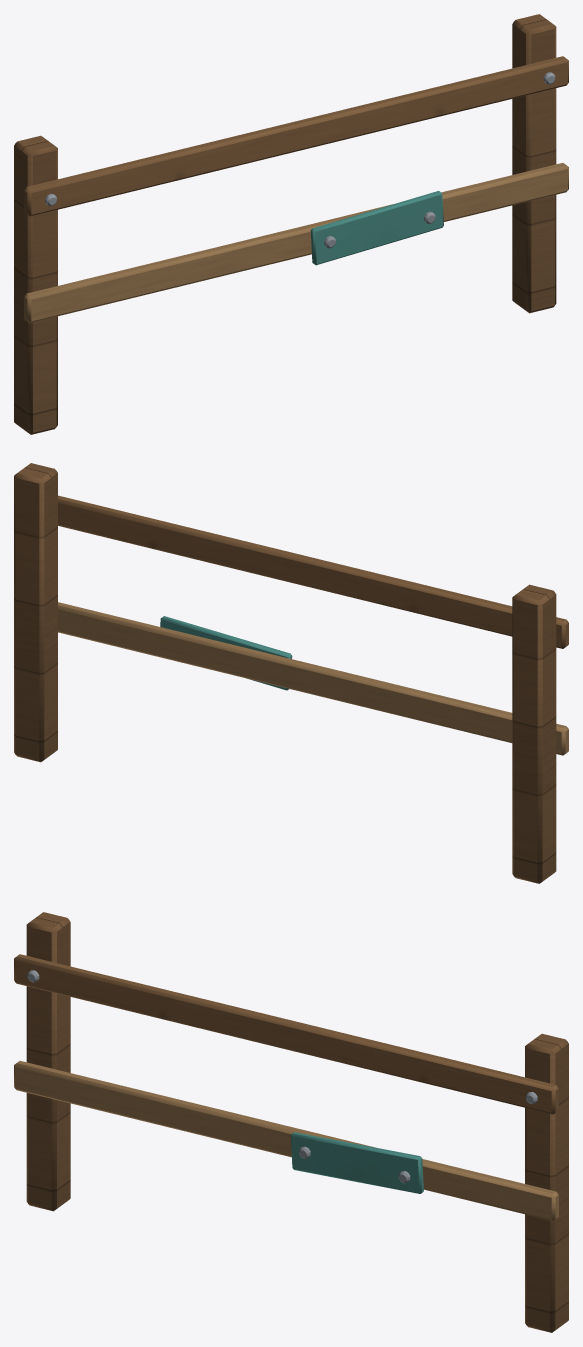
The model's file is fence_rail.glb.
3 renders of one model, top to bottom at view 1: azimuth 30°, elevation 25°; view 2: azimuth 150°, elevation 25°; view 3: azimuth 330°, elevation 25°, orthographic.
Visible parts, largest first — view 1: fence_rail; view 2: fence_rail; view 3: fence_rail.
Boxes of the visible parts, <box> form: fence_rail: <box>14,14,568,434</box>; fence_rail: <box>14,463,568,883</box>; fence_rail: <box>14,912,568,1332</box>.
Bounding box in the file's own units: 2.5 × 1.25 × 0.235.
Materials: 5 (5 with a texture image).
